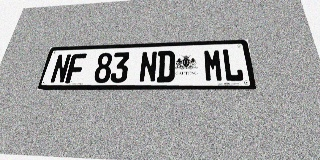3: (110, 52, 130, 83)
8: (93, 52, 114, 83)
D: (157, 50, 175, 82)
F: (65, 53, 87, 83)
L: (221, 48, 244, 82)
M: (203, 49, 224, 82)
N: (49, 54, 72, 83), (139, 51, 158, 83)
